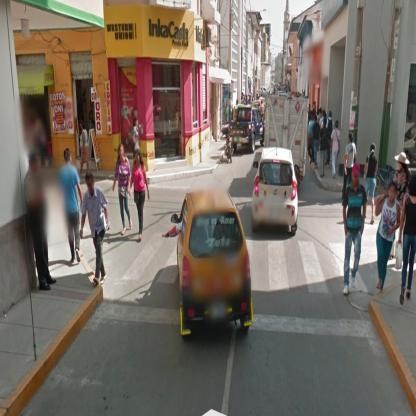Peaton: (80, 175, 111, 286), (343, 164, 368, 297), (376, 181, 402, 296), (130, 148, 152, 244), (113, 144, 134, 235)
Pista: (21, 100, 415, 413)
Vehiculo: (170, 187, 255, 341), (252, 148, 300, 236)
